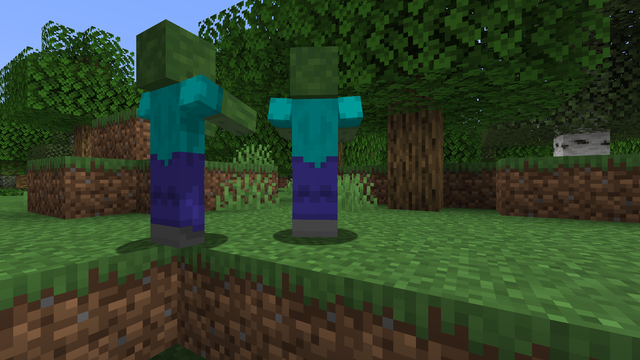zombies: (127, 20, 222, 254), (277, 43, 349, 243)
